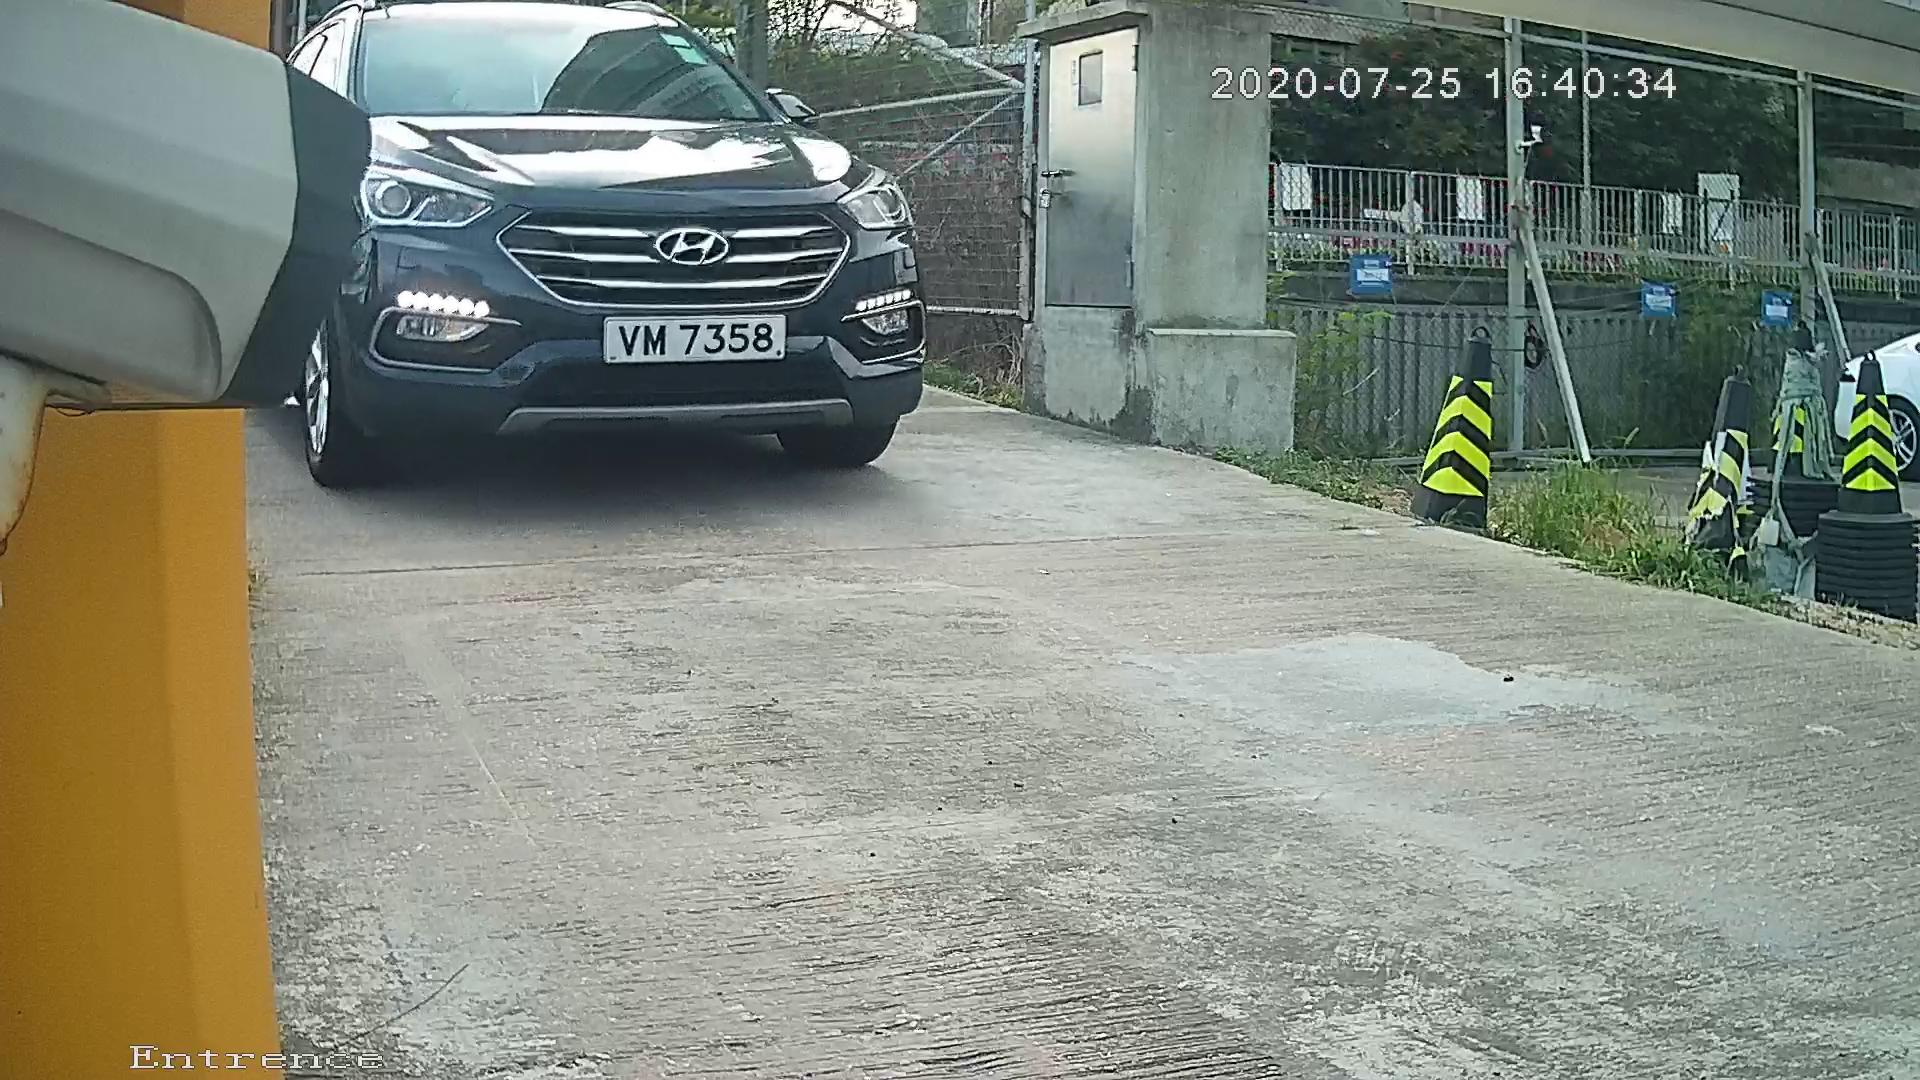Car: (215, 10, 995, 478)
License Plate: (592, 304, 798, 386)
